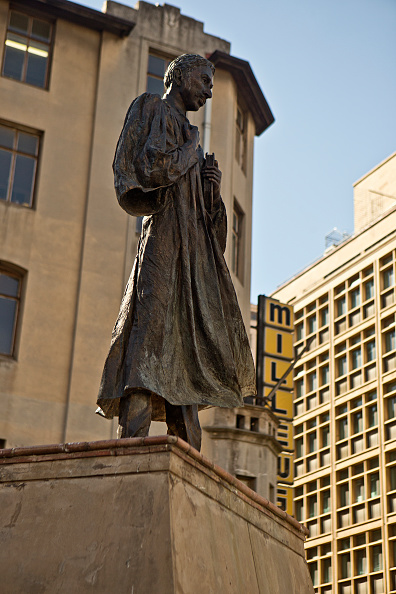em pe: (88, 39, 250, 471)
